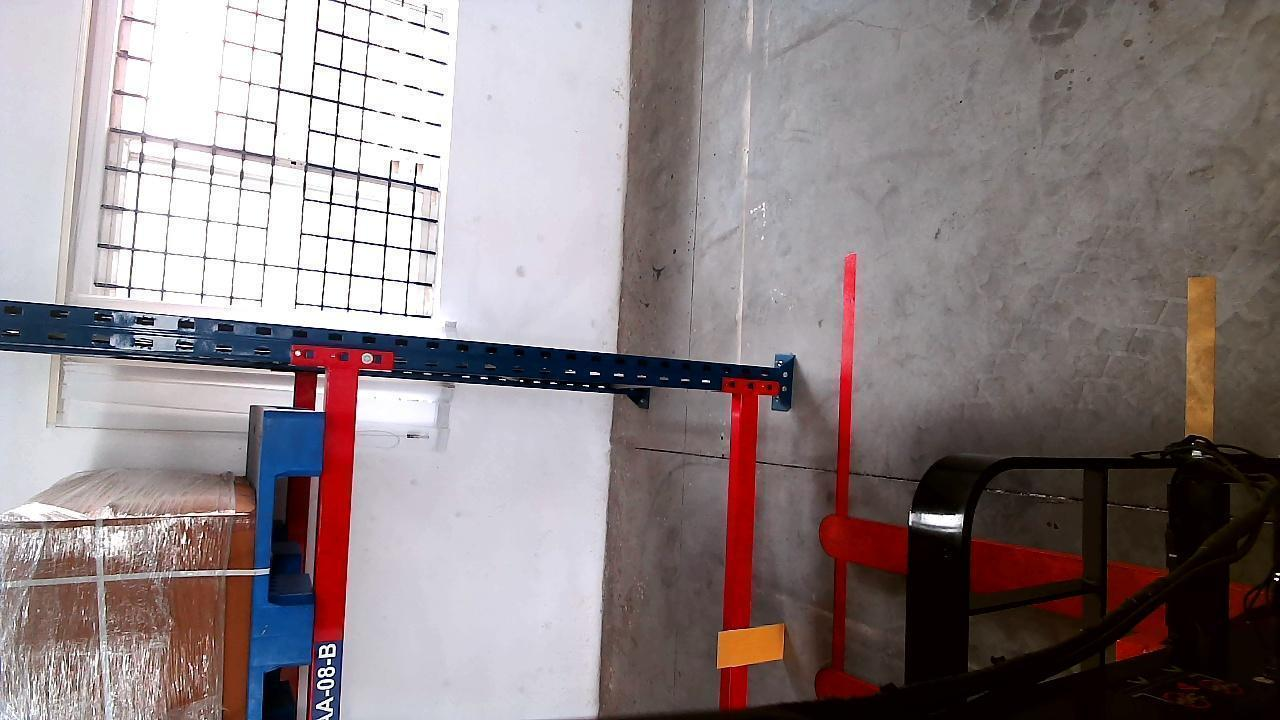red_line: (834, 250, 863, 669)
yellow_line: (1186, 273, 1215, 437)
